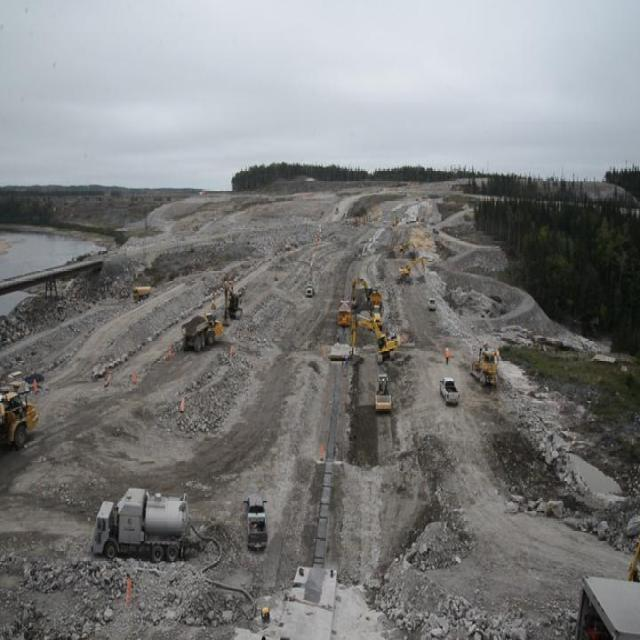dump_truck: (87, 482, 190, 558), (0, 388, 43, 451), (179, 311, 222, 352), (241, 490, 270, 550), (367, 288, 385, 326), (333, 296, 352, 326), (131, 283, 150, 301), (303, 280, 314, 294)
excavator: (346, 309, 402, 364), (349, 276, 384, 311), (221, 278, 243, 326), (396, 253, 425, 281), (392, 238, 417, 258)
